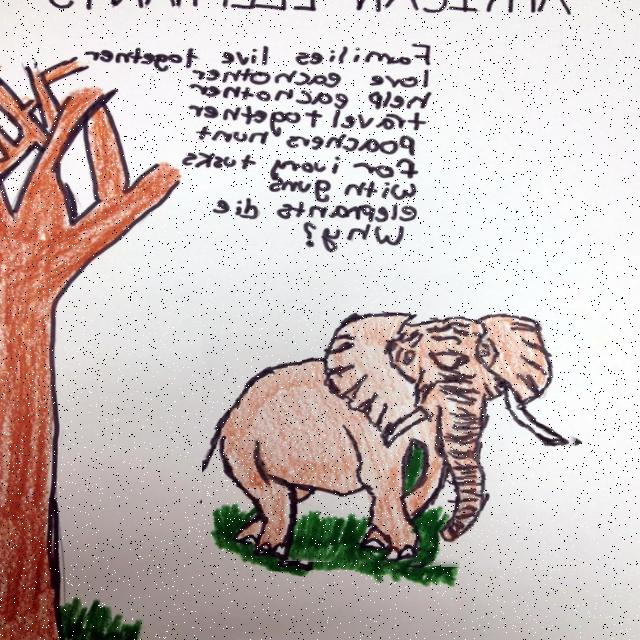elephant: (202, 311, 588, 571)
